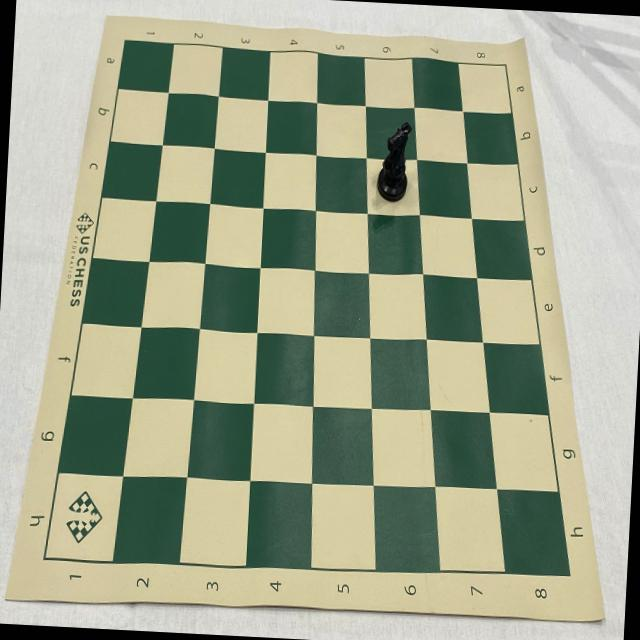black-knight: (376, 120, 413, 204)
